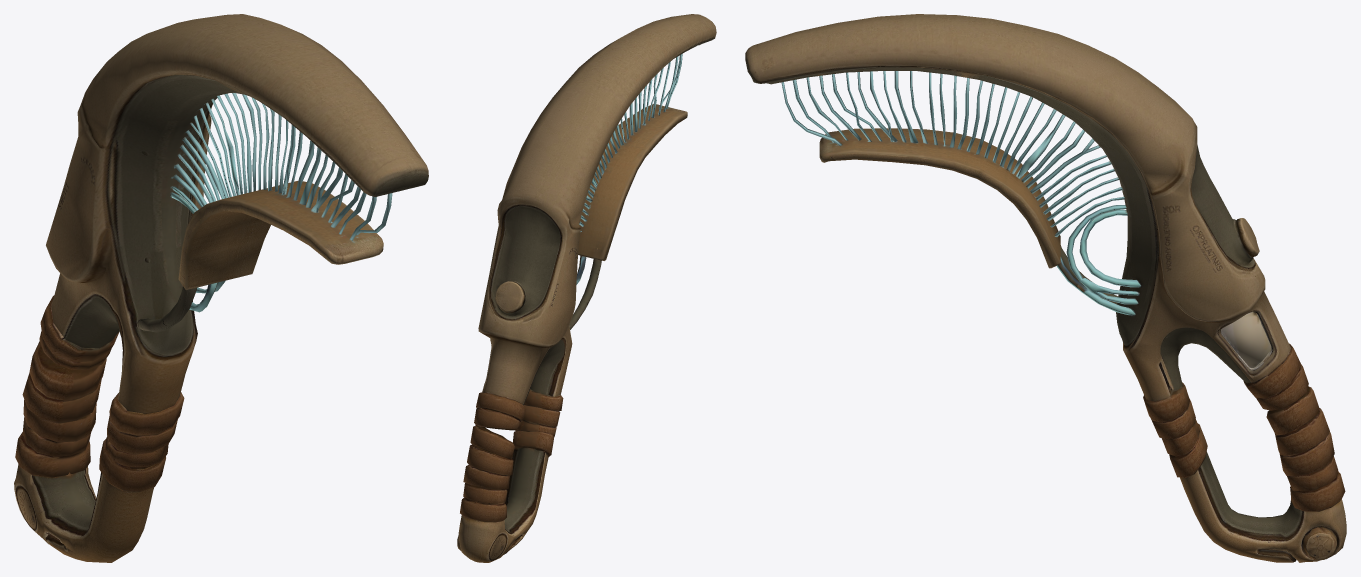
File: dew_scythe.glb
3 renders of one model, left to right at view 1: azimuth 30°, elevation 25°; view 2: azimuth 150°, elevation 25°; view 3: azimuth 270°, elevation 25°, orthographic. The views are drawn at different scales.
Visible parts, largest first — view 1: world; view 2: world; view 3: world.
Part boxes in pixels (bbox=[...]): world: bbox=[14, 14, 428, 562]; world: bbox=[457, 14, 716, 562]; world: bbox=[745, 14, 1346, 562].
Size of the model in its own units: 0.1738 by 0.9863 by 0.998.
Materials: 1 (1 with a texture image).
